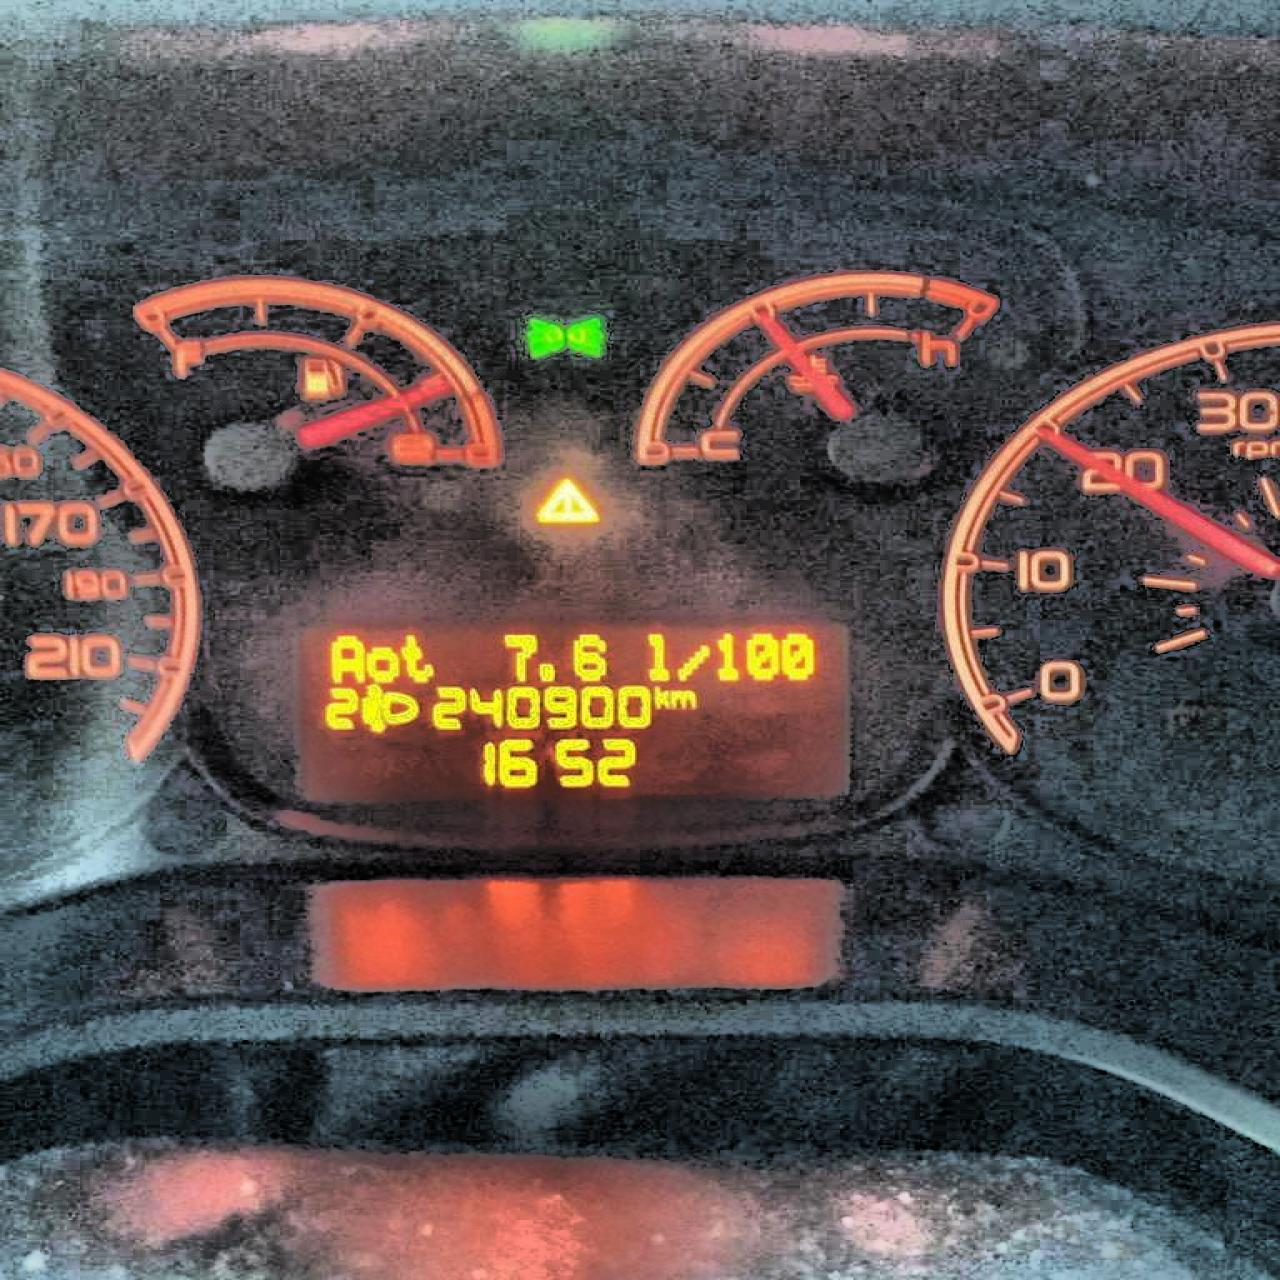-: (537, 660, 557, 682)
0: (742, 628, 778, 681), (779, 628, 815, 681), (577, 685, 615, 730), (615, 682, 652, 730), (503, 683, 539, 729)
1: (712, 628, 741, 682), (475, 737, 497, 788)
2: (593, 735, 639, 788), (428, 683, 467, 731), (320, 685, 359, 731)
4: (467, 683, 503, 729)
5: (550, 734, 593, 789)
6: (495, 736, 540, 790), (567, 629, 611, 681)
7: (497, 629, 537, 685)
9: (540, 685, 577, 730)
X: (324, 631, 365, 685), (399, 628, 435, 683), (641, 628, 670, 682), (673, 642, 710, 681), (363, 642, 399, 683), (670, 686, 696, 709), (652, 682, 670, 708)
odometer: (278, 608, 862, 813)
